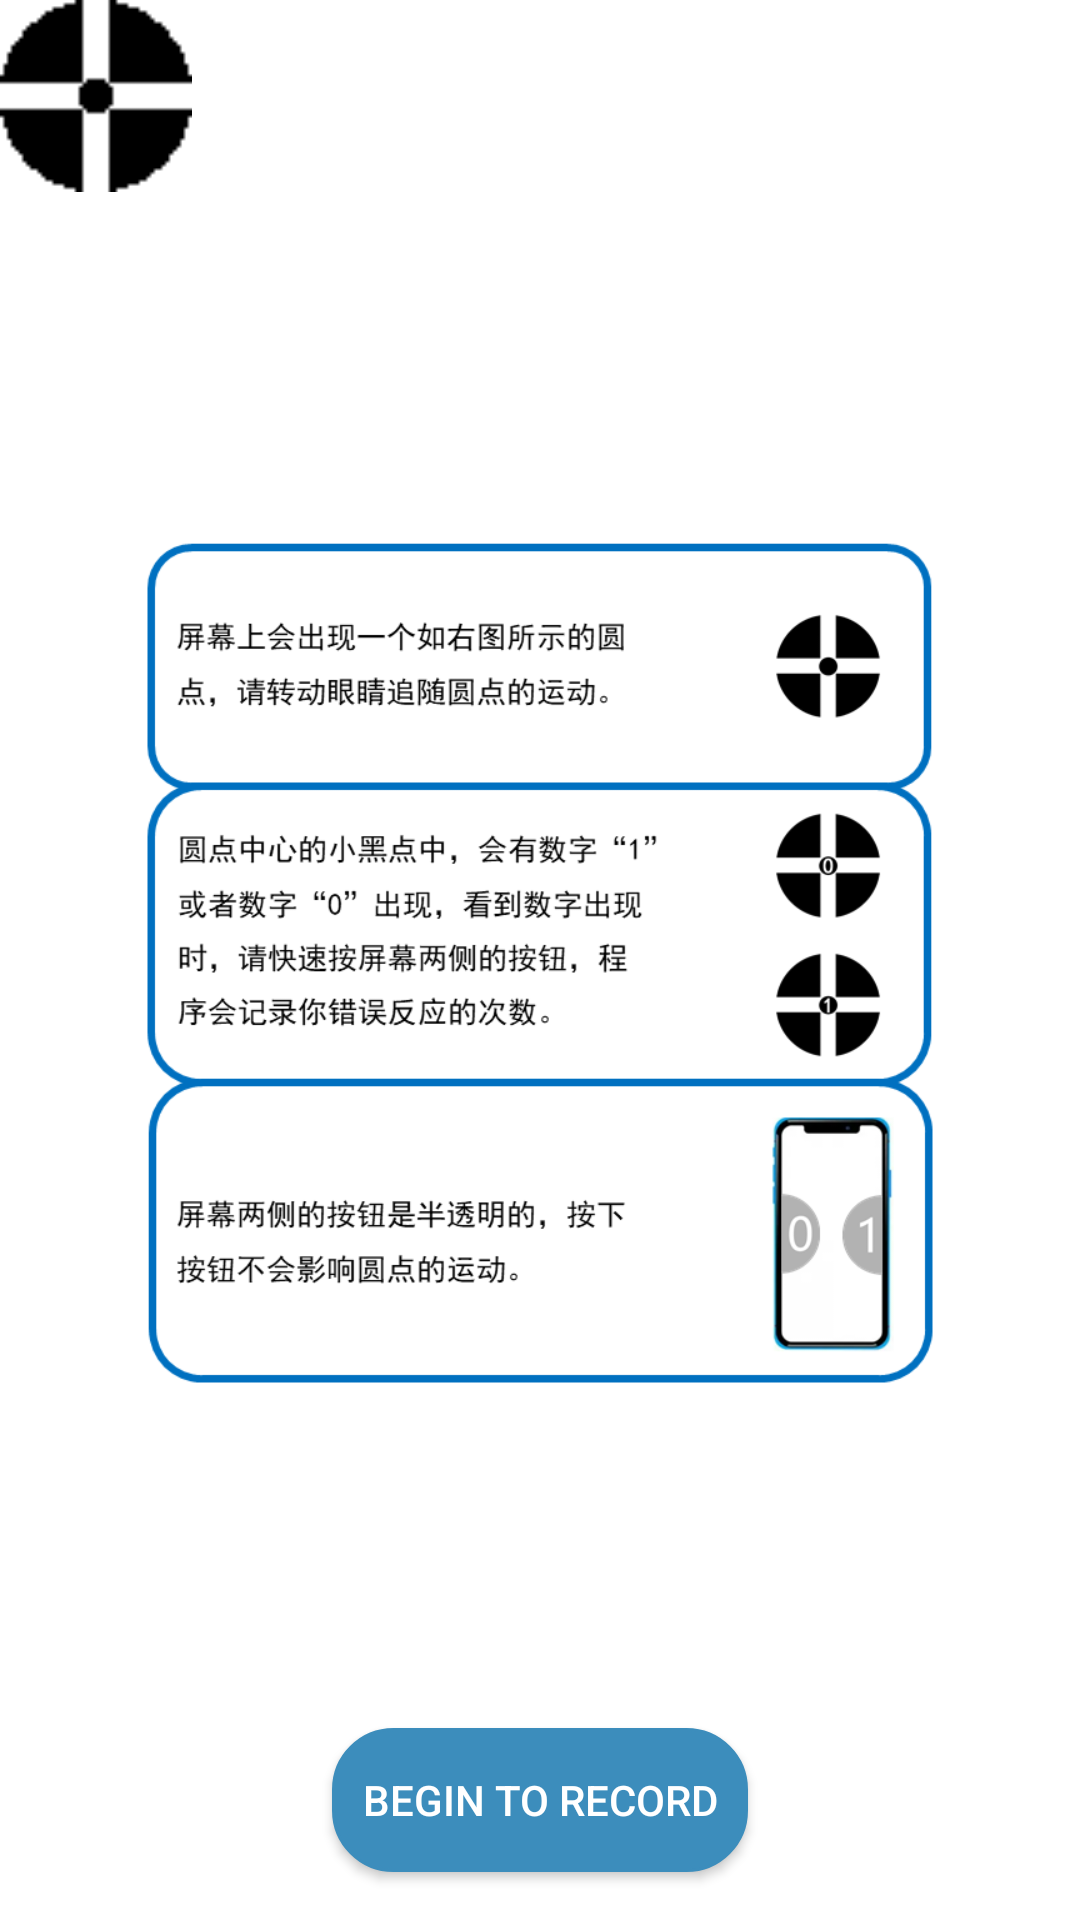

Icons on this 1080*1920 Android screen, each with the point to tap as [x,y]:
marker: [96,96]
